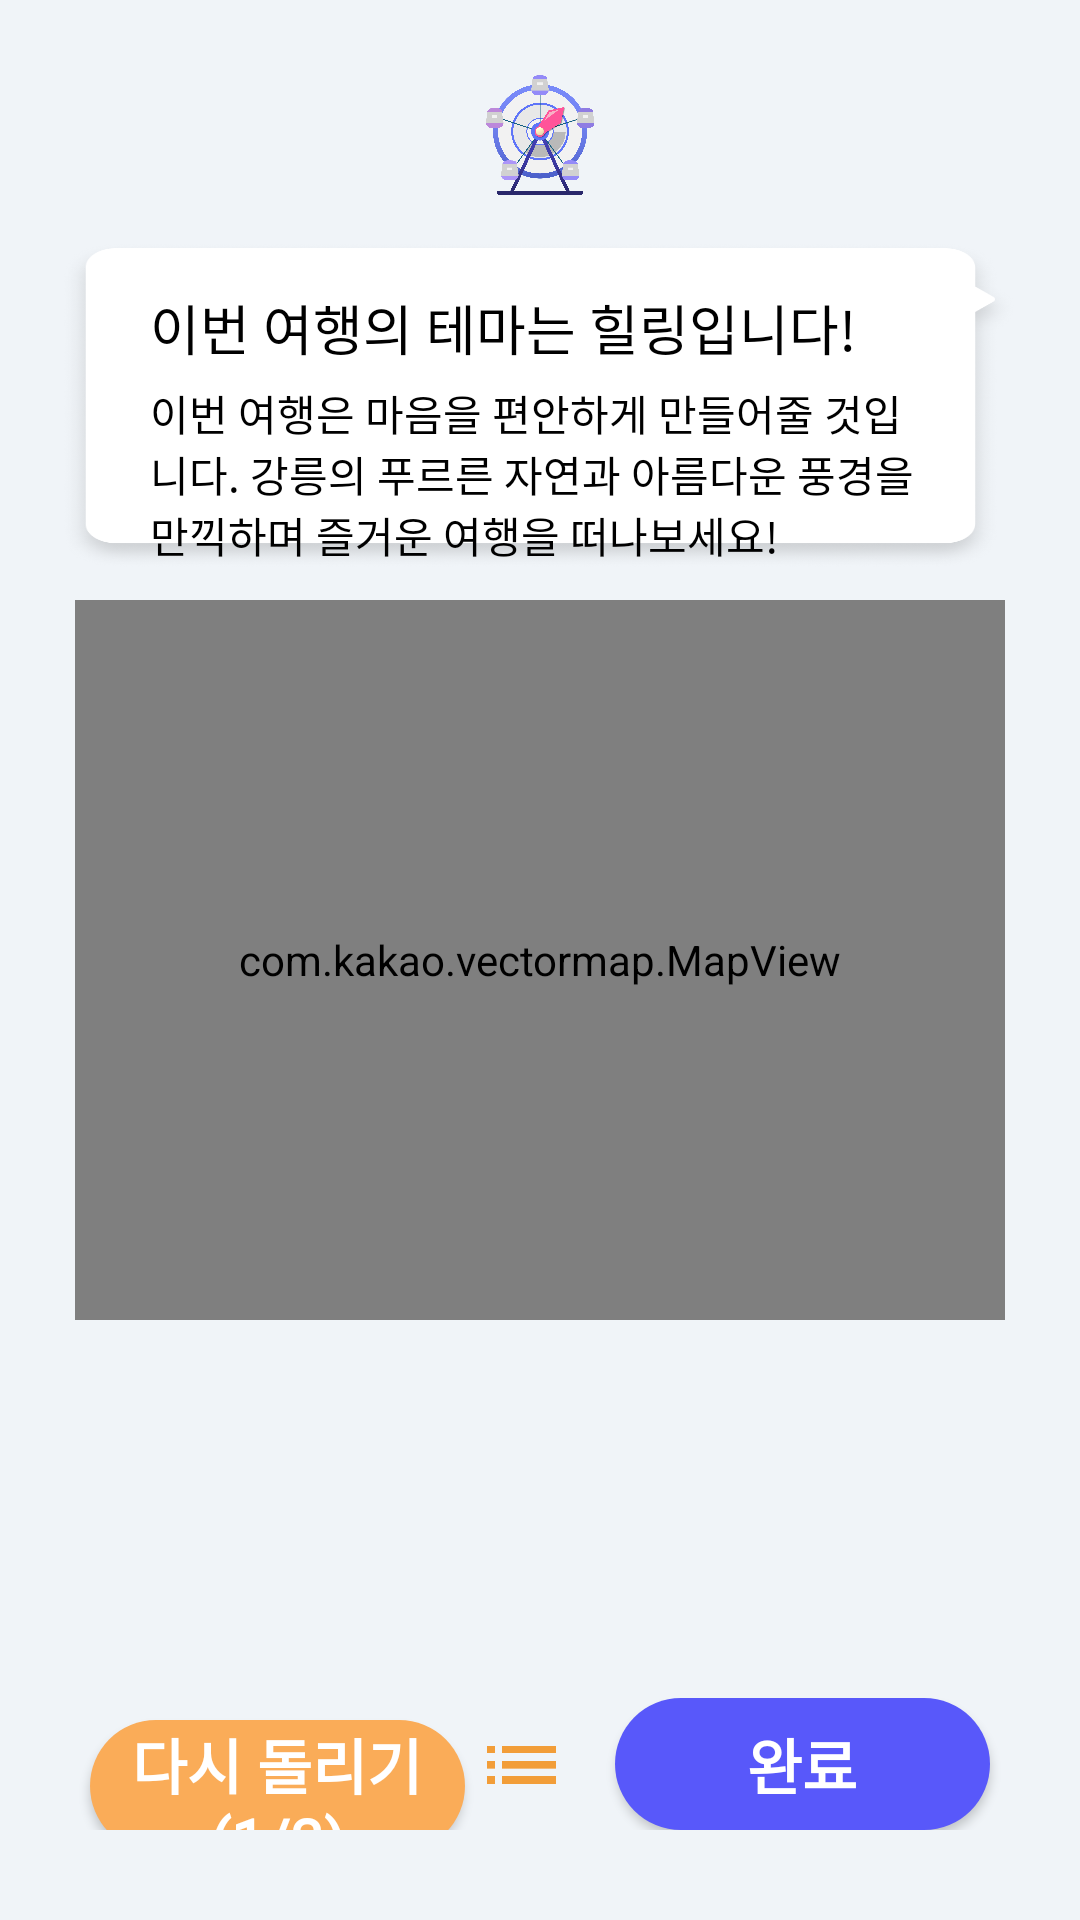

Named icons in this screenshot (1080px x 1920px) and their centers, [x,y]:
list: [521,1765]
